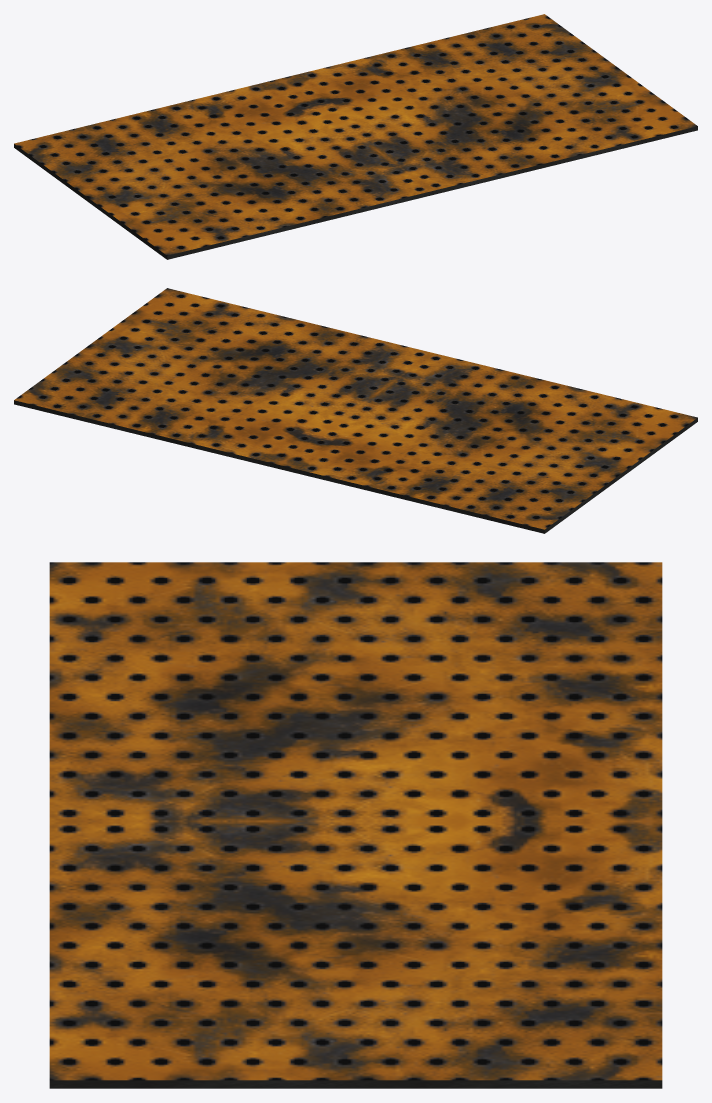
File: plaka_05.FBX
3 views of the same model, one above another, from view 1: azimuth 30°, elevation 25°; view 2: azimuth 150°, elevation 25°; view 3: azimuth 270°, elevation 25° (orthographic). The views are drawn at different scales.
Visible parts, largest first — view 1: plaka_05; view 2: plaka_05; view 3: plaka_05.
Part boxes in pixels (x1,y1,x2,y2): plaka_05: (14, 14, 697, 259); plaka_05: (14, 288, 697, 533); plaka_05: (49, 562, 662, 1088).
Bounding box in the file's own units: 1000 × 7.5 × 500.
